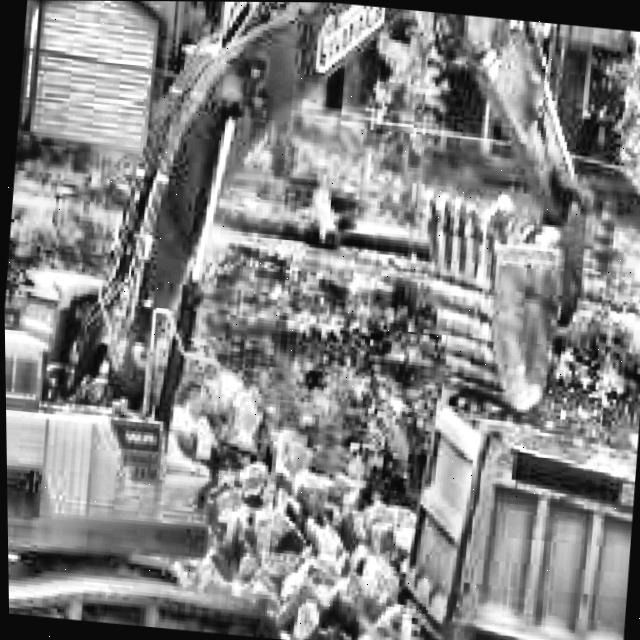dump_truck: (385, 381, 640, 640)
excavator: (0, 0, 612, 640)
